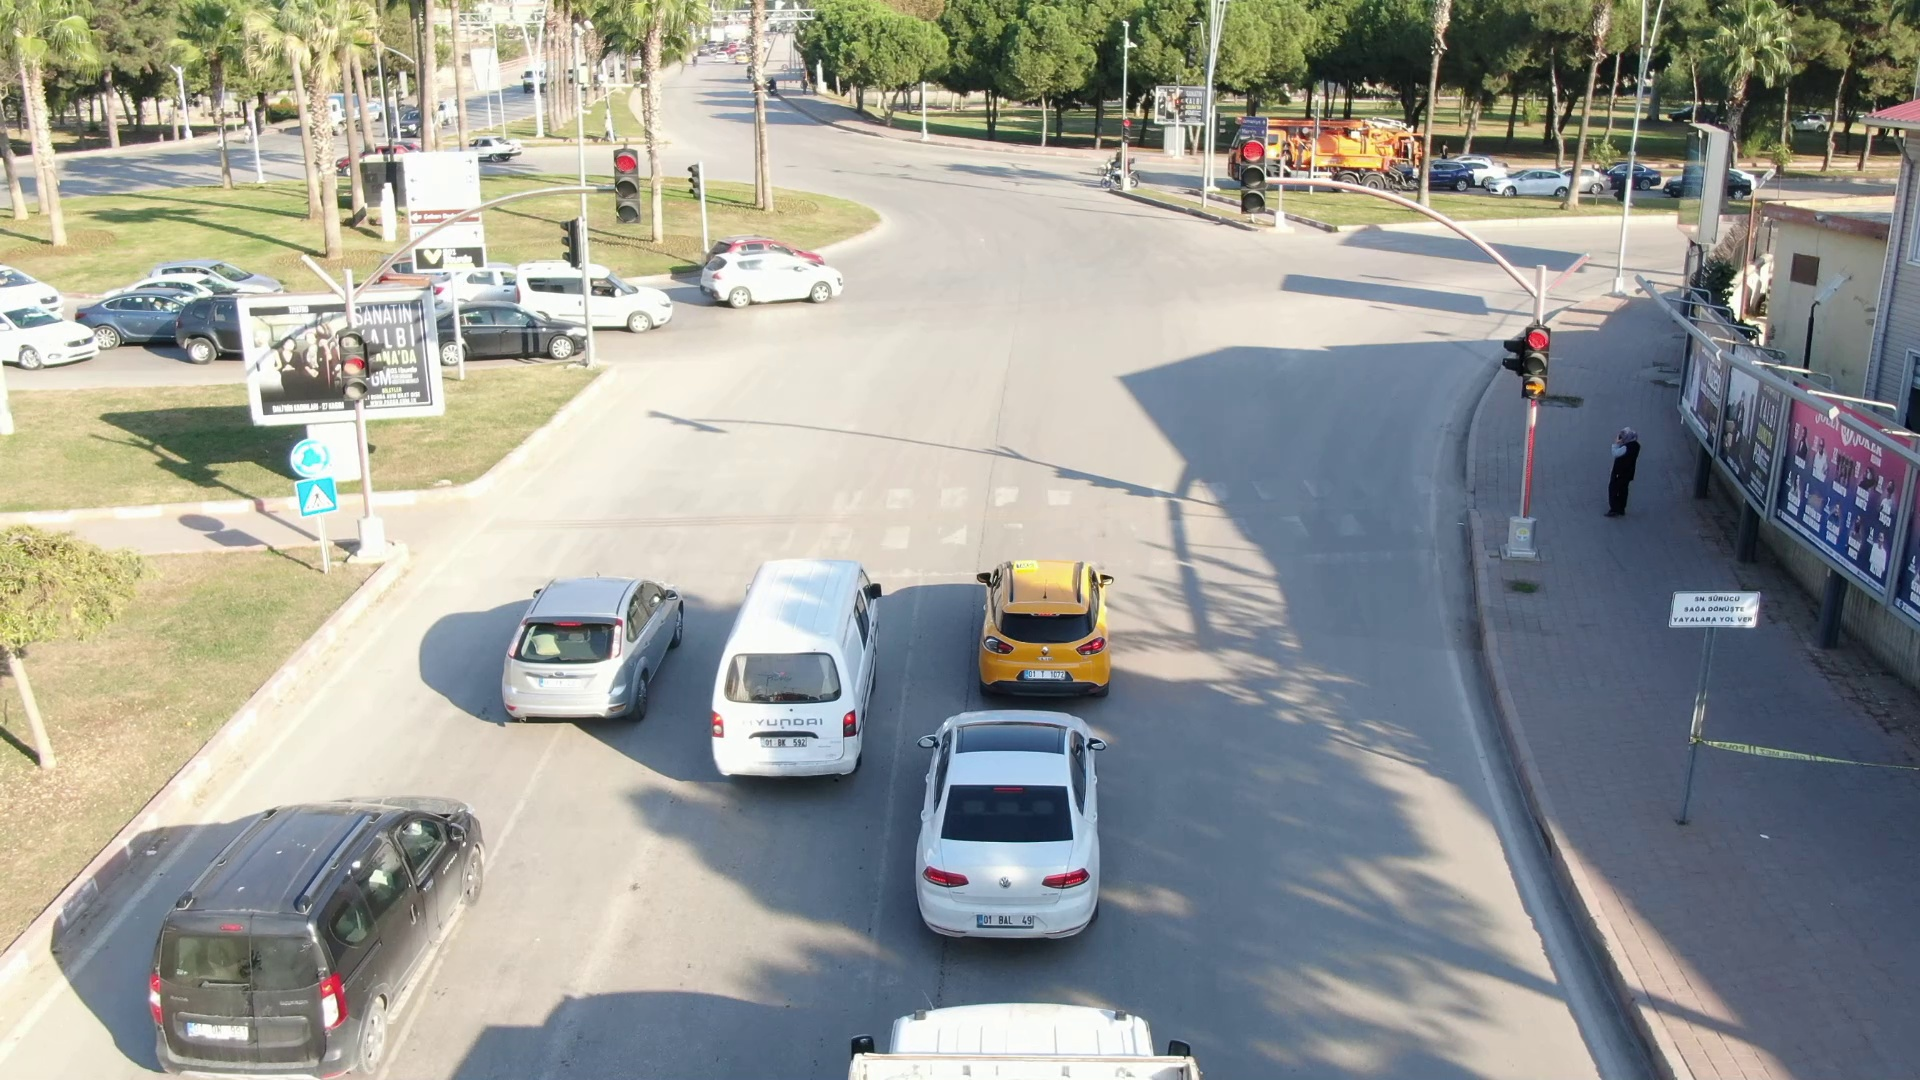car: (127, 804, 504, 1070), (908, 710, 1104, 965), (698, 555, 892, 798), (474, 574, 702, 741), (965, 561, 1117, 708), (506, 257, 670, 331), (688, 241, 845, 315), (429, 294, 592, 363)
person: (1604, 425, 1647, 535)
